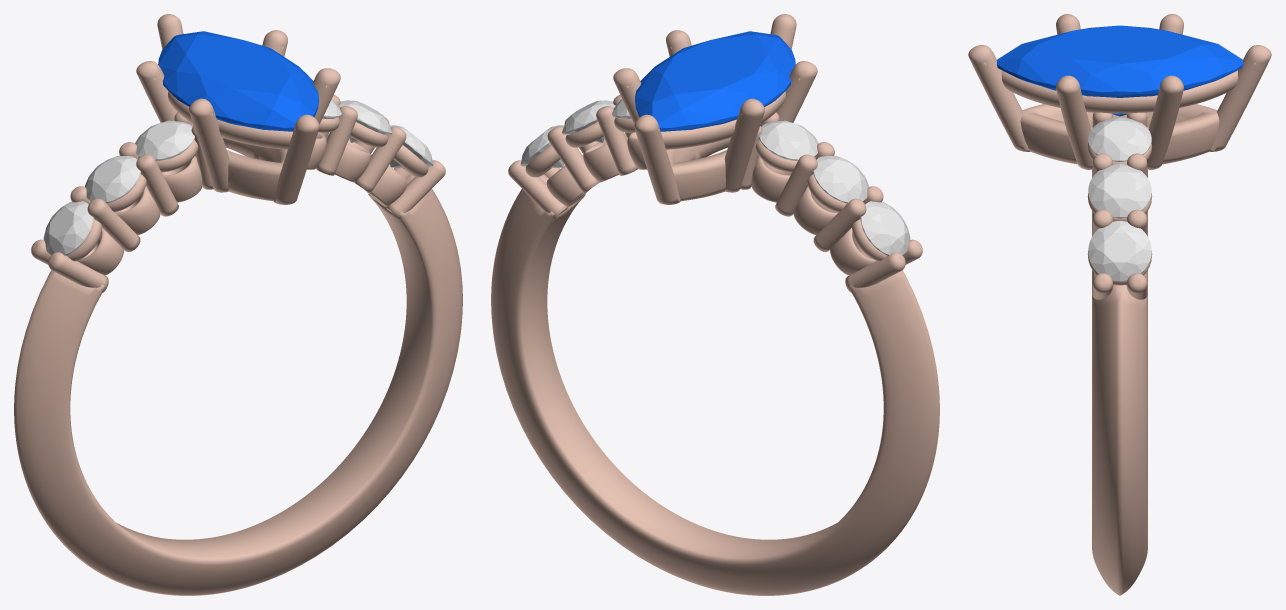
Rendered from bluesapphire-marquise-rosegold-6prong-knifeedge-7stone.glb.
3 views of the same model, side by side, from view 1: azimuth 30°, elevation 25°; view 2: azimuth 150°, elevation 25°; view 3: azimuth 270°, elevation 25° (orthographic).
Parts seen in each view (by area): view 1: metal.001, stone, dia, dia.003, dia.004, dia.006, dia.005; view 2: metal.001, stone, dia, dia.003, dia.004, dia.006, dia.005; view 3: metal.001, stone, dia.005, dia.006, dia.007.
Part boxes in pixels (bbox=[...]): metal.001: bbox=[14, 14, 462, 595]; stone: bbox=[158, 31, 318, 131]; dia: bbox=[43, 201, 93, 255]; dia.003: bbox=[85, 155, 140, 203]; dia.004: bbox=[135, 120, 194, 160]; dia.006: bbox=[338, 100, 391, 142]; dia.005: bbox=[389, 125, 433, 167]; metal.001: bbox=[491, 14, 939, 595]; stone: bbox=[635, 31, 795, 131]; dia: bbox=[860, 201, 910, 255]; dia.003: bbox=[813, 155, 868, 203]; dia.004: bbox=[759, 120, 818, 160]; dia.006: bbox=[562, 100, 615, 142]; dia.005: bbox=[520, 125, 564, 167]; metal.001: bbox=[968, 14, 1271, 595]; stone: bbox=[997, 25, 1242, 116]; dia.005: bbox=[1088, 221, 1151, 281]; dia.006: bbox=[1088, 164, 1151, 218]; dia.007: bbox=[1088, 117, 1151, 161].
Size of the model in its own units: 20.5 by 22.93 by 11.96.
